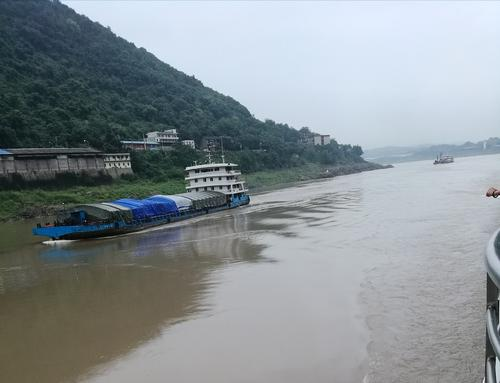boat: (25, 158, 258, 233)
